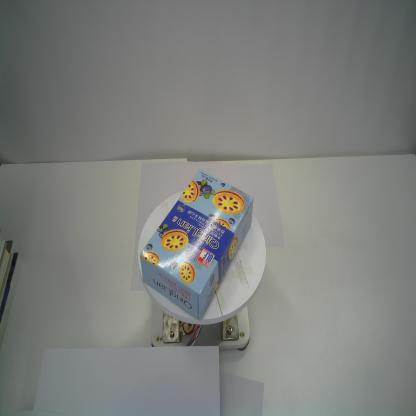Dessert: (139, 168, 254, 320)
